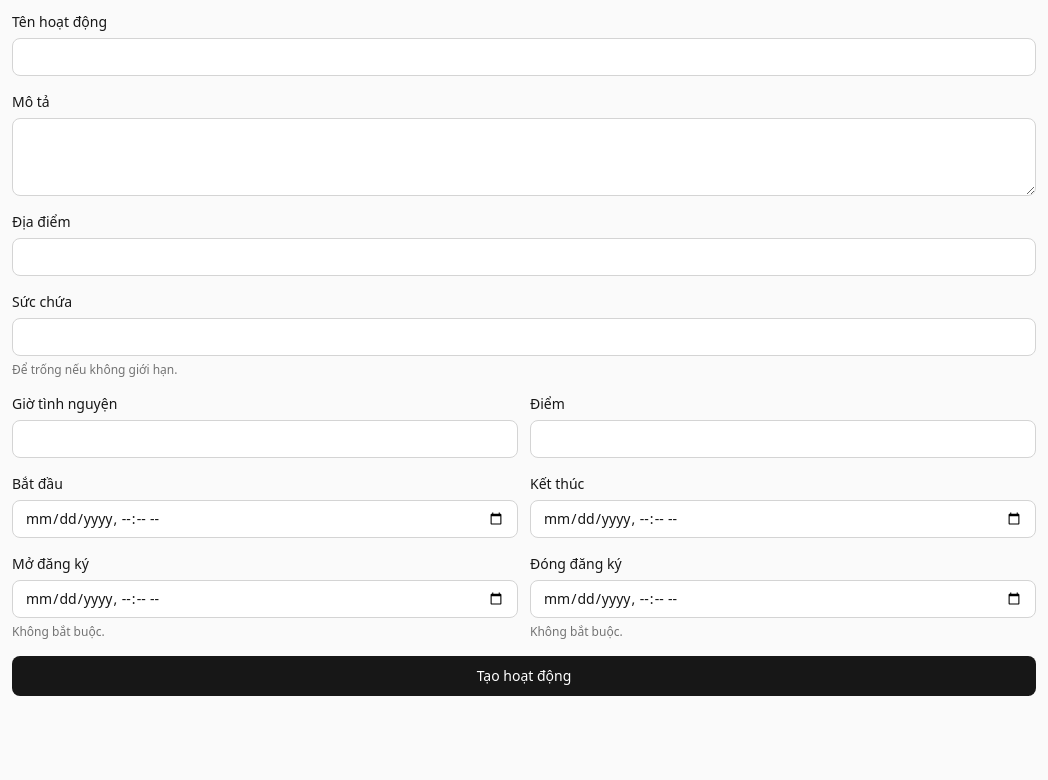
Test: ActivityForm — create › pins a bad capacity to the field
In the field labelled "Tên hoạt động": (524, 57) [12,38,1036,76], type "X"
In the number field labelled "Sức chứa": (524, 337) [12,318,1036,356], type "2.5"
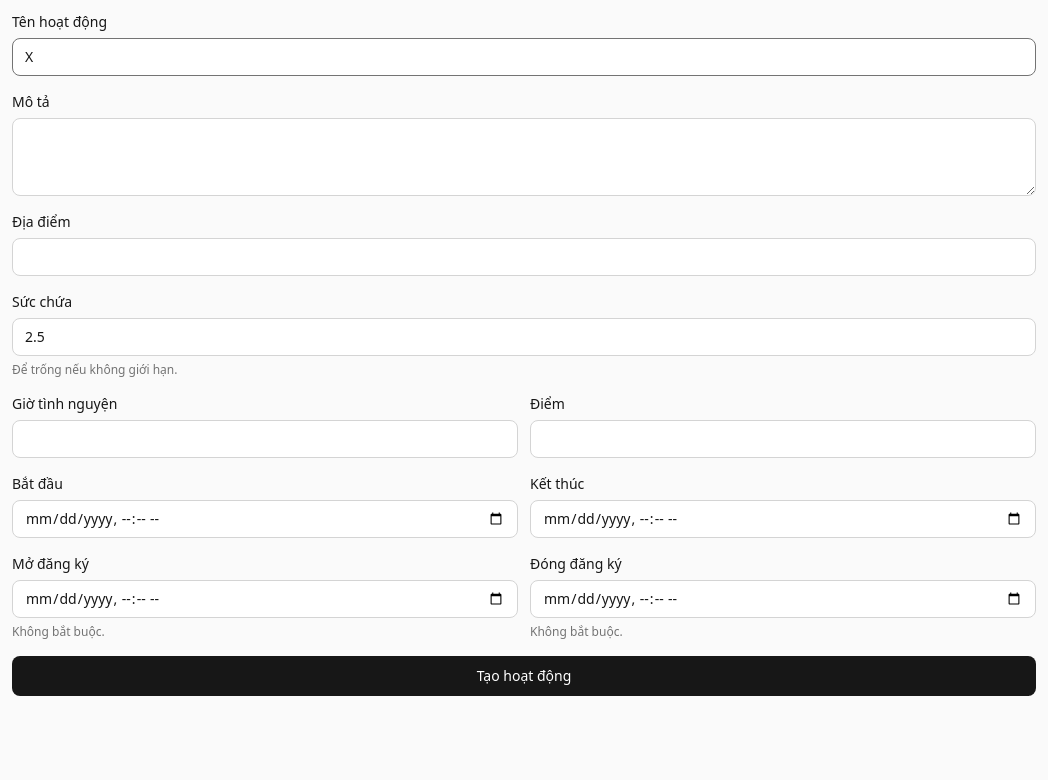
In the number field labelled "Giờ tình nguyện": (265, 439) [12,420,518,458], type "1"
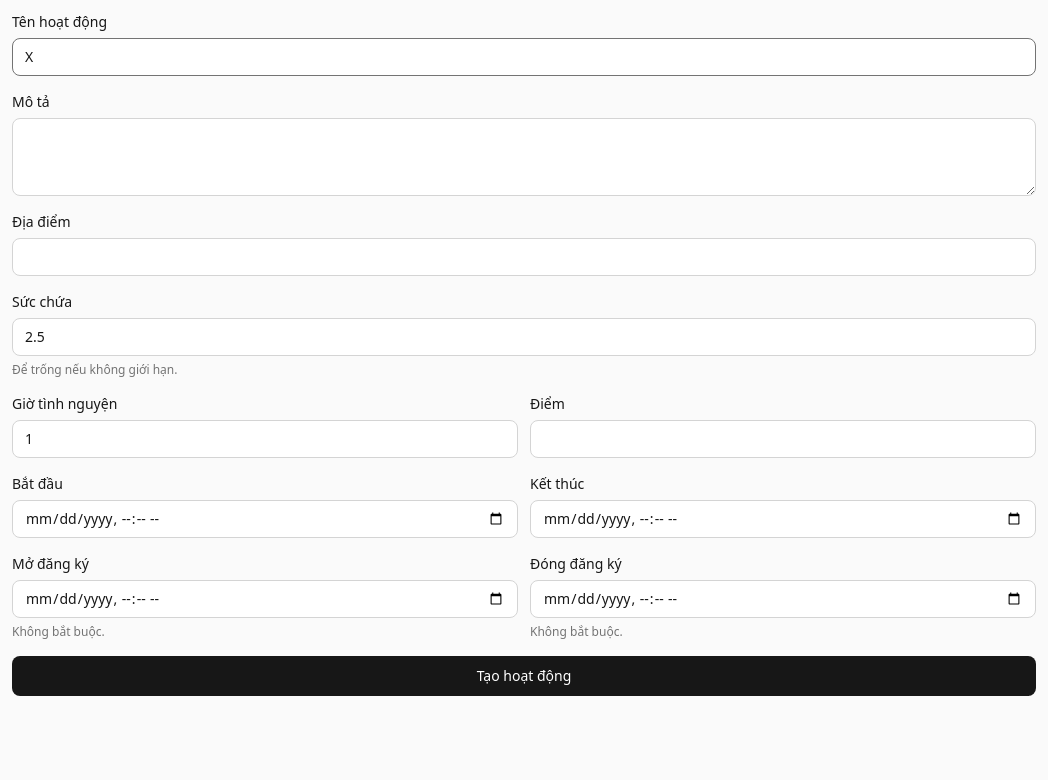
In the number field labelled "Điểm": (783, 439) [530,420,1036,458], type "1"
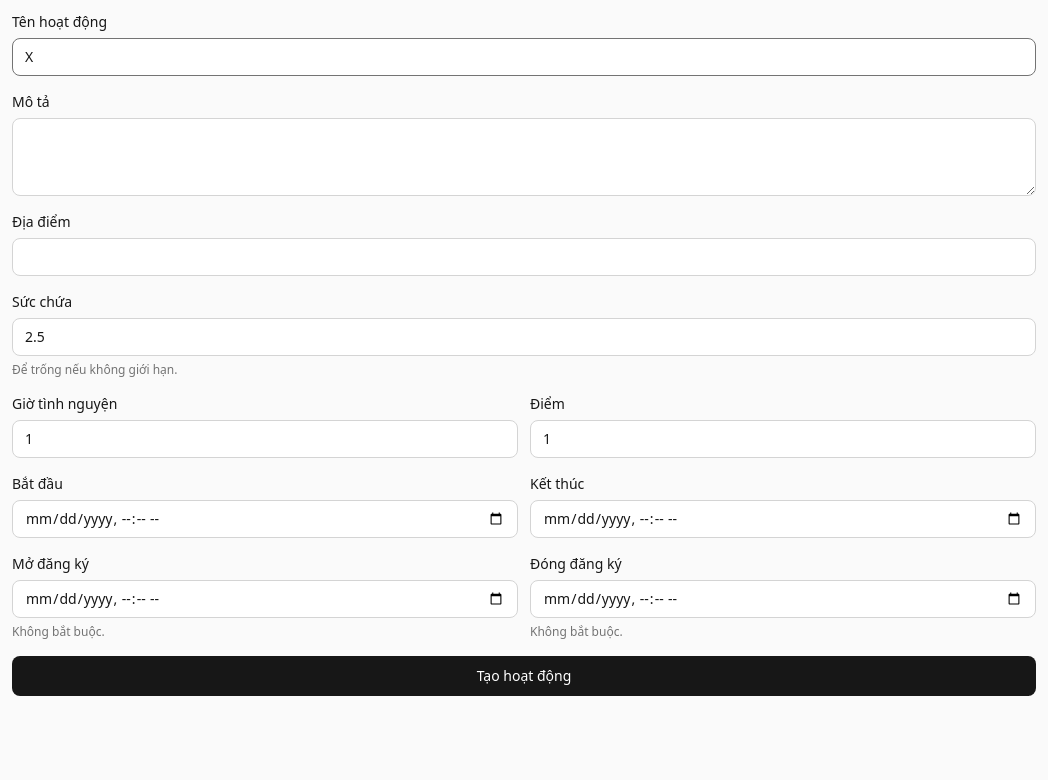
In the field labelled "Bắt đầu": (265, 519) [12,500,518,538], type "2026-06-15T08:00"
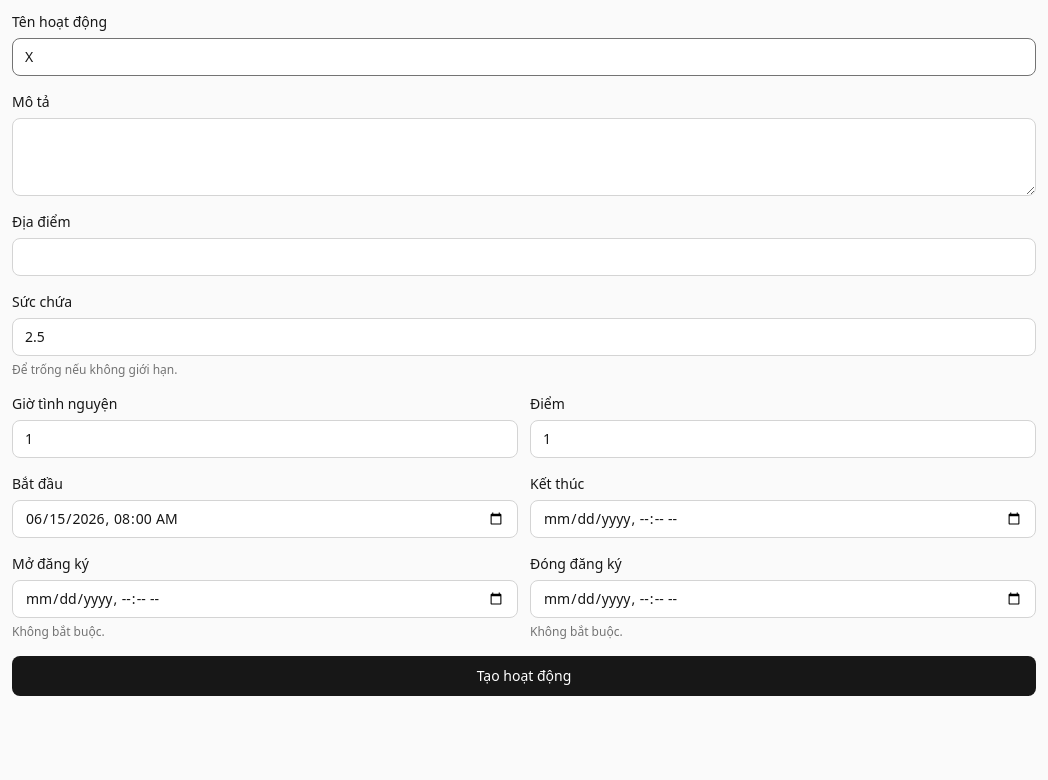
In the field labelled "Kết thúc": (783, 519) [530,500,1036,538], type "2026-06-15T17:00"
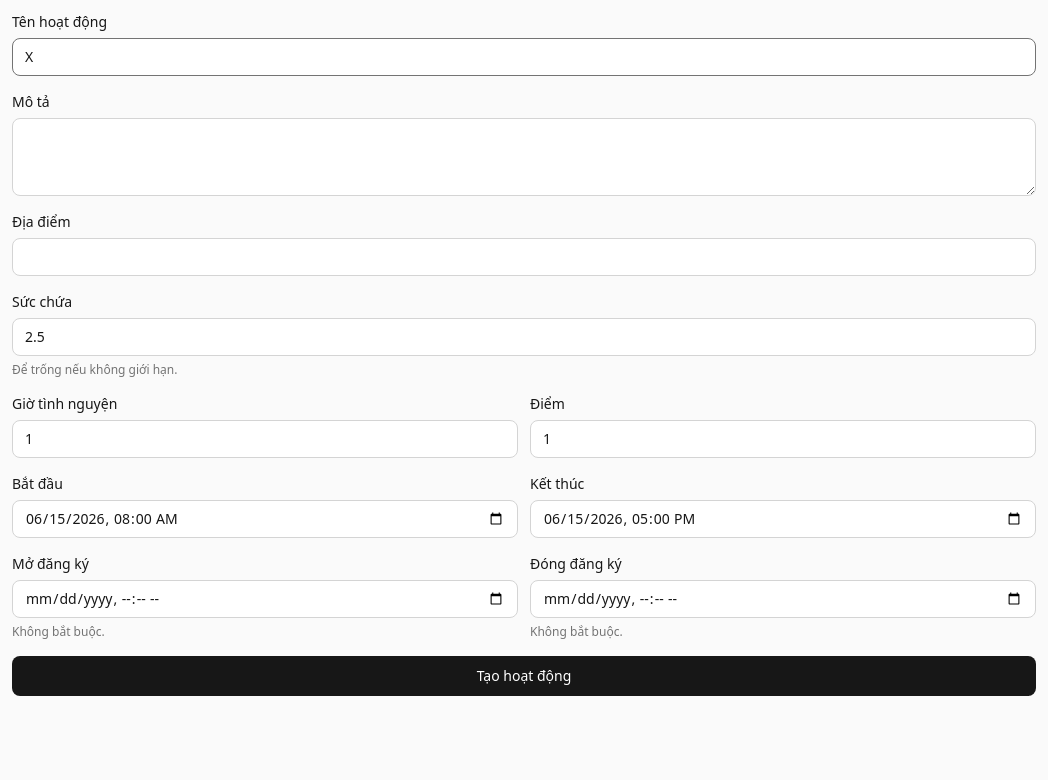
Submit the form named "Tạo hoạt động"
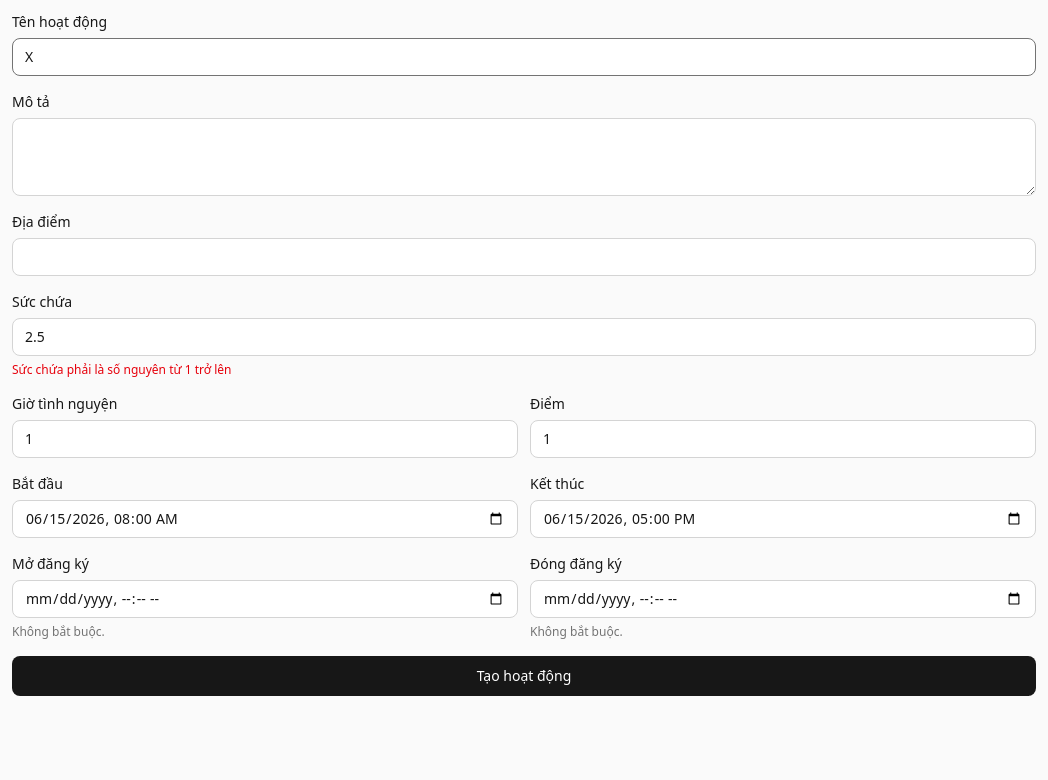
Expected: the message reads "Sức chứa phải là số nguyên từ 1 trở lên", [12,361,232,378]
